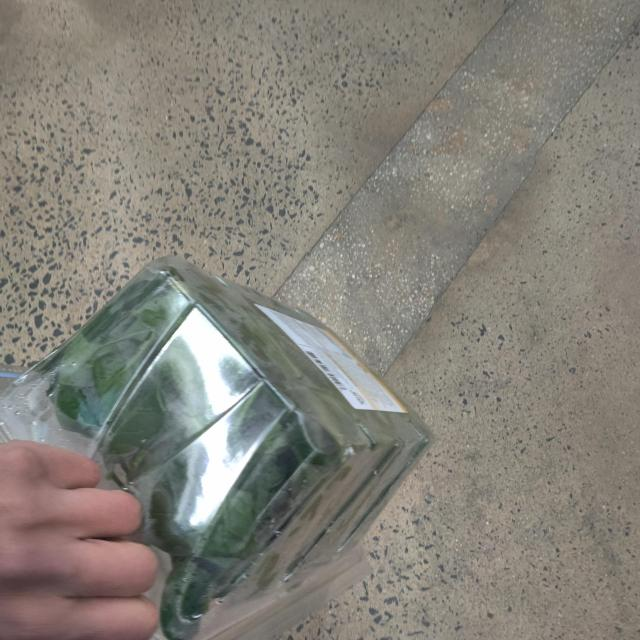Salad: (0, 256, 438, 636)
